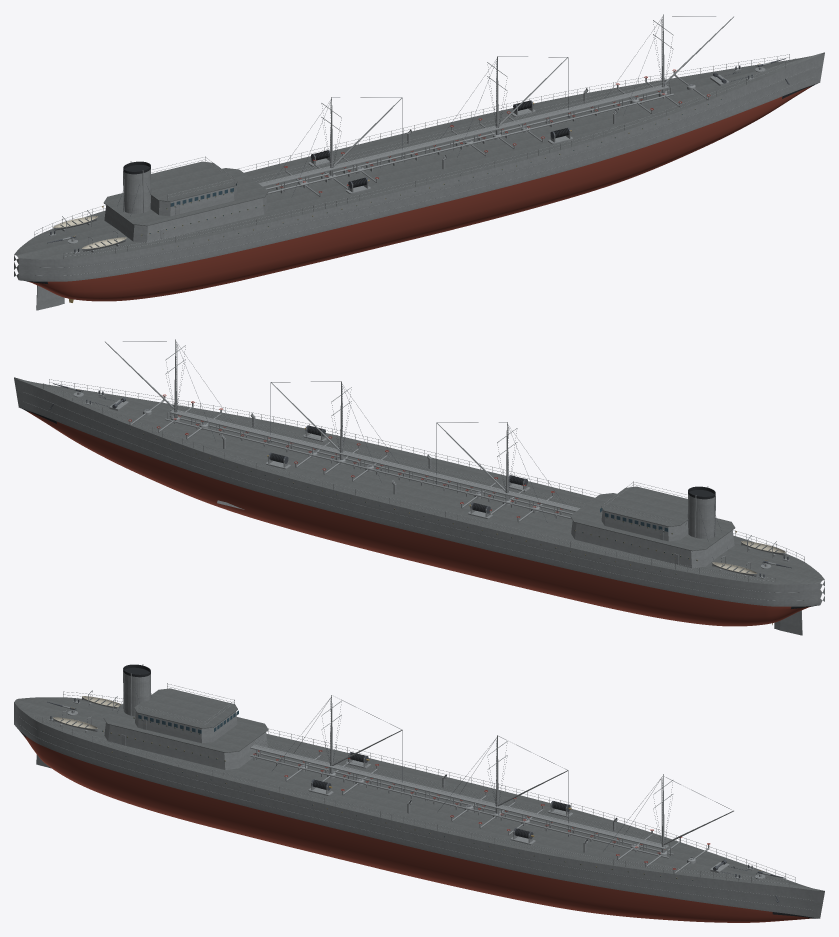
File: fallback-ao.glb
The picture shows the model from 3 angles, top to bottom: view 1: azimuth 30°, elevation 25°; view 2: azimuth 150°, elevation 25°; view 3: azimuth 330°, elevation 25°; orthographic projection.
Visible parts, largest first — view 1: Original AO custom-design concept; view 2: Original AO custom-design concept; view 3: Original AO custom-design concept.
Part boxes in pixels (x1,y1,x2,y2): Original AO custom-design concept: (14,14,824,310); Original AO custom-design concept: (14,339,824,635); Original AO custom-design concept: (14,664,824,922).
Size of the model in its own units: 144 by 24.9 by 18.09.
9 materials, 2 textured.
